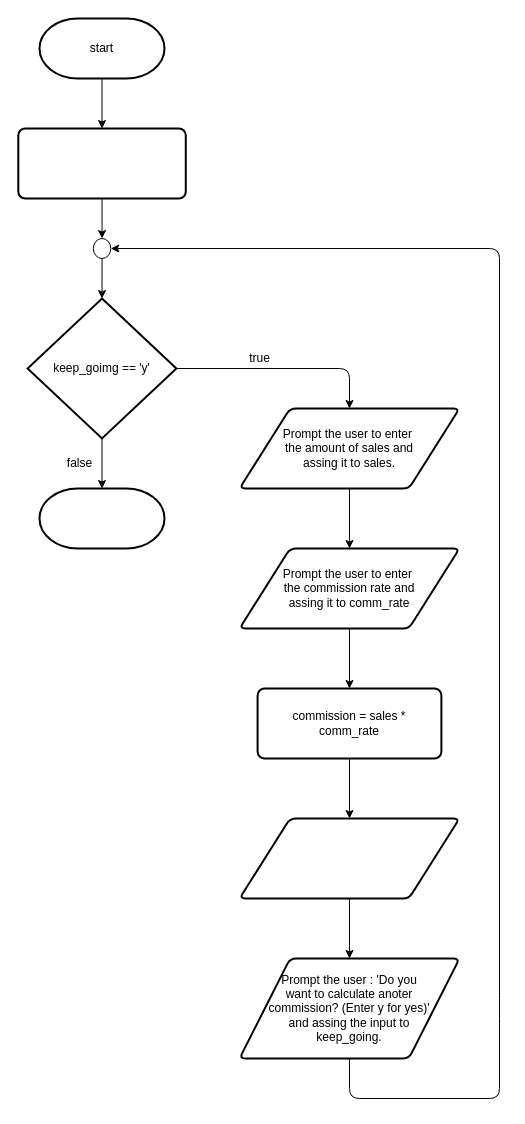
The diagram is 525 pixels wide and 1124 high, and some of its shapes have lost their labels. Each missing label, with the centre of its shape:
Assing 'y' to keep_going: point (101, 163)
Display the commission: point (349, 858)
end: point (101, 518)
